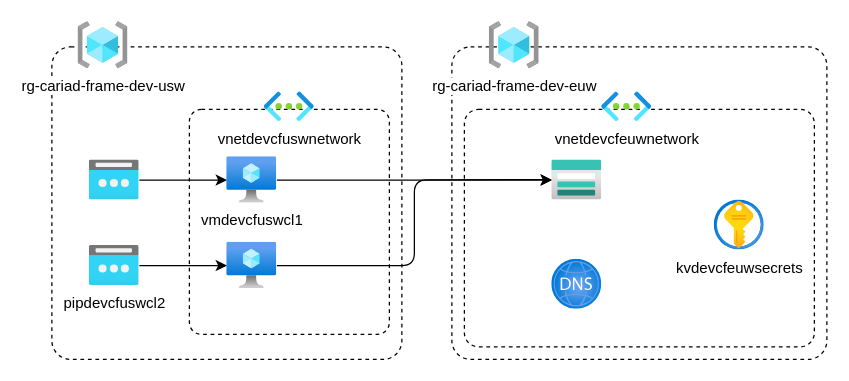
The diagram is 849 pixels wide and 381 high, and some of its shapes have lost their labels. Here are the shapes that lost their labels. From the top down, the box of each, then its label:
(89, 160, 139, 200): pipdevcfuswcl1
(551, 160, 601, 200): file share stcariadframedeveuwtest
(226, 242, 276, 288): vmdevcfuswcl2
(551, 259, 601, 309): privatelink.file.core.windows.net
